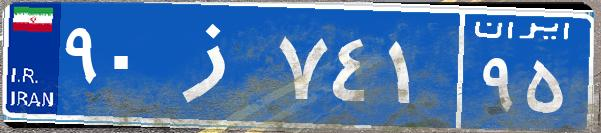0: (110, 28, 158, 105)
1: (385, 28, 445, 110)
4: (330, 28, 385, 110)
5: (525, 38, 570, 115)
7: (273, 28, 330, 110)
9: (57, 26, 110, 107), (475, 38, 525, 113)
ز: (158, 15, 273, 115)
